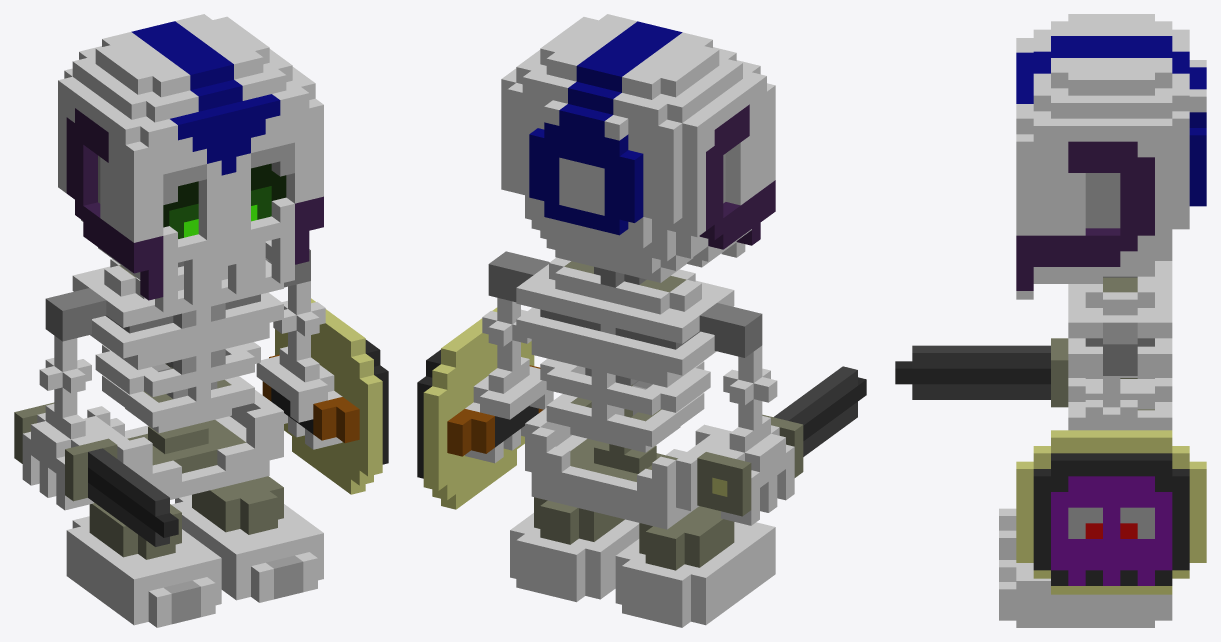
Rendered from Skeleton.fbx.
3 renders of one model, left to right at view 1: azimuth 30°, elevation 25°; view 2: azimuth 150°, elevation 25°; view 3: azimuth 270°, elevation 25°, orthographic. The views are drawn at different scales.
Parts seen in each view (by area): view 1: Head, Torso, LeftArm, RightArm, RightFoot, LeftFoot; view 2: Head, Torso, LeftArm, RightArm, RightFoot, LeftFoot; view 3: Head, LeftArm, Torso, RightArm, LeftFoot, RightFoot.
Part boxes in pixels (left/top/right/bottom): Head: left=58, top=14, right=323, bottom=312; Torso: left=72, top=259, right=283, bottom=499; LeftArm: left=256, top=249, right=388, bottom=494; RightArm: left=14, top=288, right=178, bottom=546; RightFoot: left=66, top=502, right=221, bottom=627; LeftFoot: left=171, top=476, right=323, bottom=602; Head: left=501, top=14, right=775, bottom=282; Torso: left=516, top=257, right=734, bottom=529; LeftArm: left=417, top=251, right=553, bottom=509; RightArm: left=697, top=303, right=866, bottom=525; RightFoot: left=615, top=506, right=775, bottom=627; LeftFoot: left=510, top=497, right=639, bottom=602; Head: left=1016, top=14, right=1206, bottom=299; LeftArm: left=1016, top=322, right=1206, bottom=594; Torso: left=1068, top=261, right=1172, bottom=430; RightArm: left=895, top=338, right=1068, bottom=407; LeftFoot: left=999, top=560, right=1172, bottom=627; RightFoot: left=999, top=508, right=1016, bottom=559.
Size of the model in its own units: 2100 by 3400 by 1800.
1 material, 1 textured.
